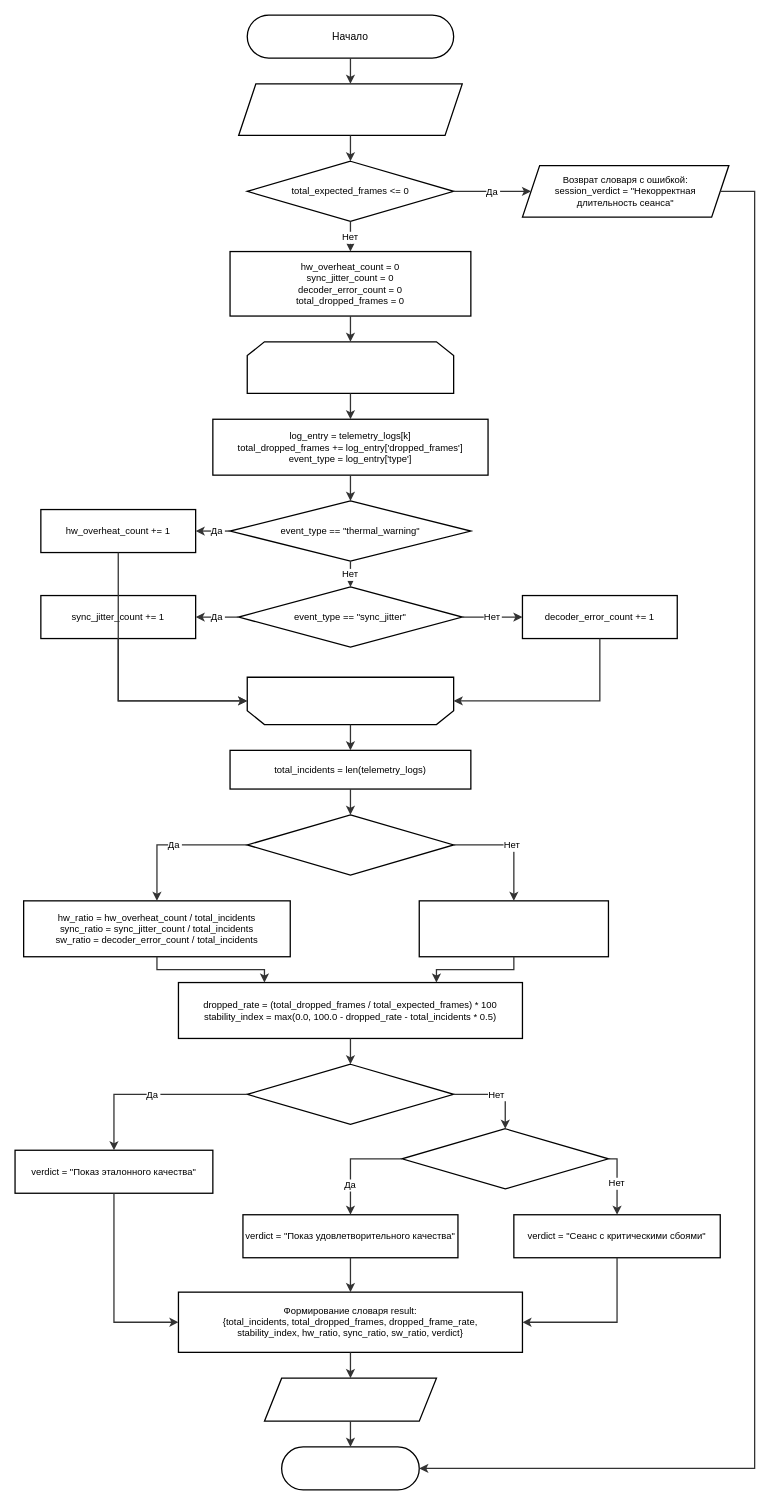
Some shapes in this 777 by 1506 pixel diagram are drawn without their labels. The centre of each missing label's shape, as x and y in pixels:
"hw_ratio = 0.0 sync_ratio = 0.0 sw_ratio = 0.0" goes at (x=513, y=928).
"stability_index >= 90.0" goes at (x=505, y=1158).
"stability_index >= 98.0" goes at (x=350, y=1094).
"total_incidents > 0" goes at (x=350, y=844).
"Ввод: telemetry_logs, total_expected_frames" goes at (x=350, y=109).
"Возврат result" goes at (x=350, y=1399).
"Конец" goes at (x=350, y=1468).
"Конец цикла k" goes at (x=350, y=700).
"Цикл k от 0 до len(telemetry_logs) - 1" goes at (x=350, y=367).
